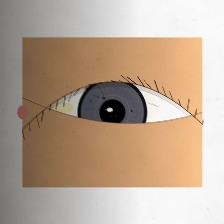pinguecula_lesion: (35, 87, 86, 127)
